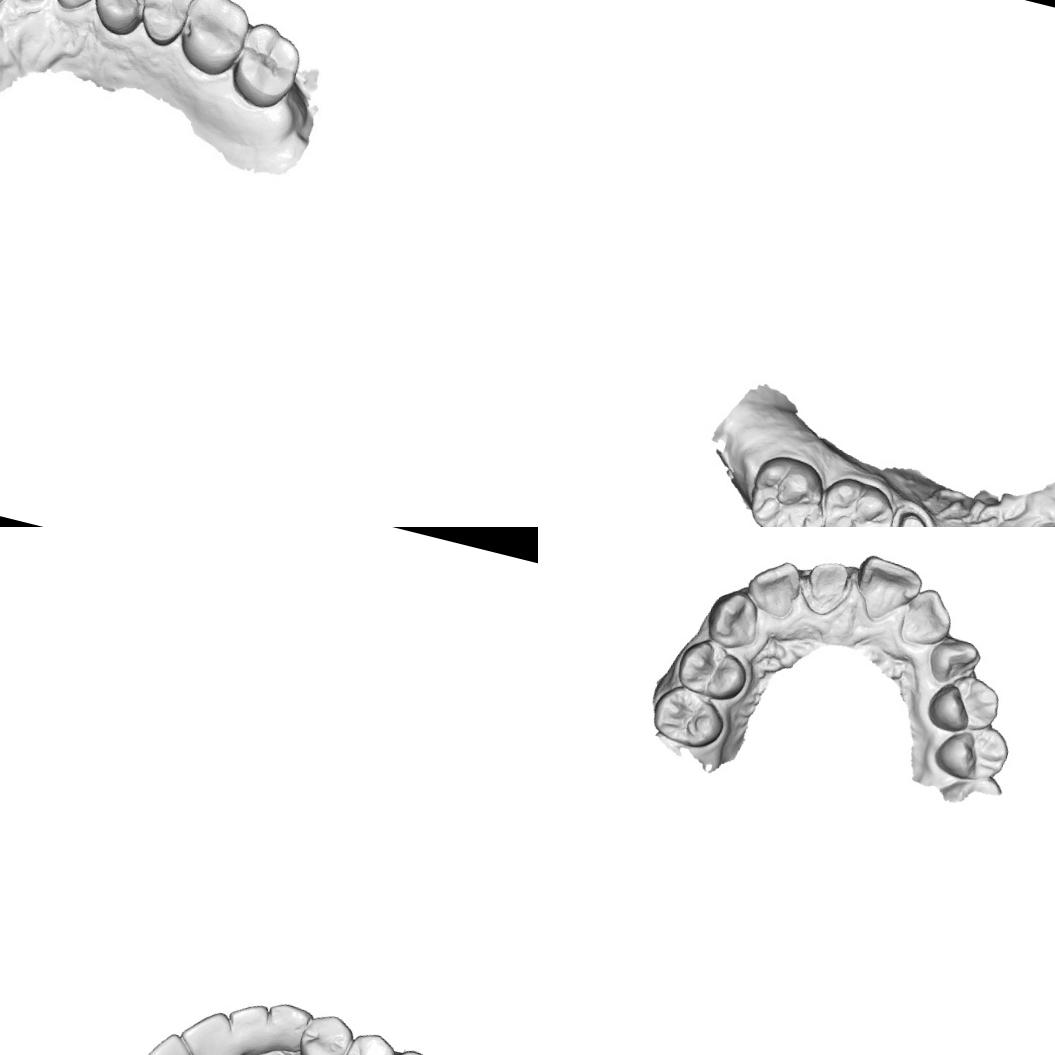canine: (700, 583, 766, 654), (922, 630, 985, 692), (259, 997, 311, 1055), (44, 0, 108, 15)
crown: (882, 499, 942, 527)
incisor: (846, 551, 926, 630), (896, 582, 959, 652), (742, 552, 805, 620), (172, 1001, 245, 1055), (797, 554, 854, 619), (221, 994, 278, 1055), (133, 1023, 208, 1055)
molar: (737, 445, 839, 527), (222, 17, 306, 112), (171, 0, 253, 81), (803, 469, 906, 527)
premolar: (922, 666, 1006, 742), (645, 679, 730, 754), (930, 715, 1014, 788), (670, 632, 754, 702), (134, 0, 198, 50), (292, 1006, 355, 1055), (87, 0, 154, 38), (335, 1027, 396, 1055)
